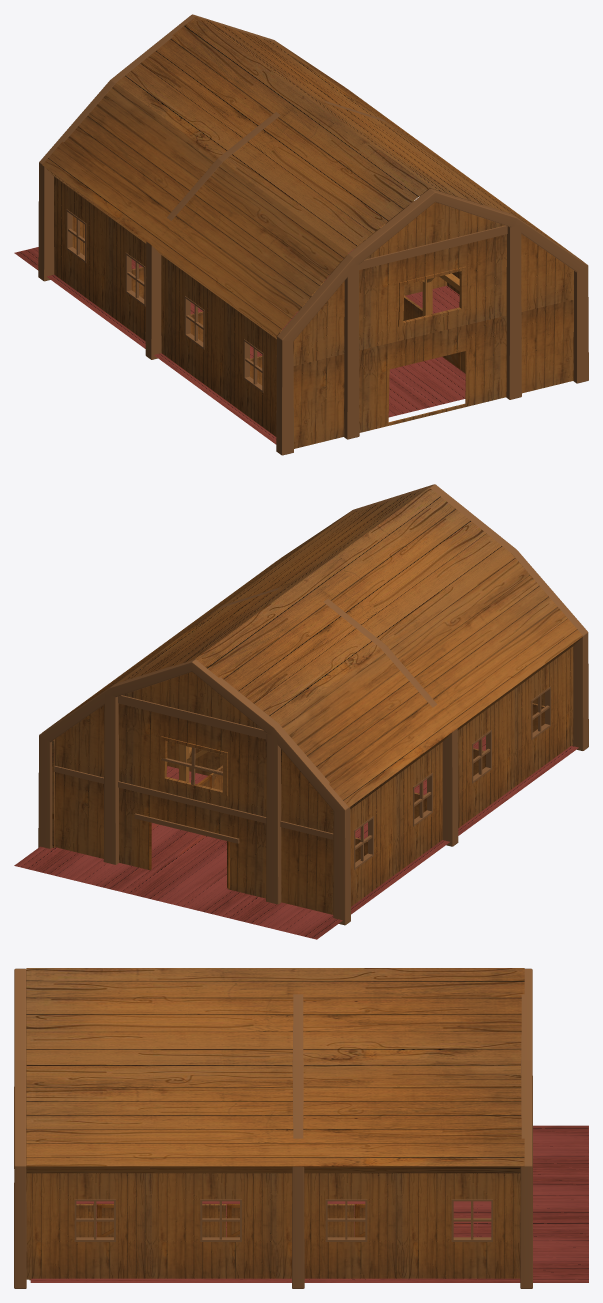
File: Chicken House Wood.fbx
The picture shows the model from 3 angles, top to bottom: view 1: azimuth 30°, elevation 25°; view 2: azimuth 150°, elevation 25°; view 3: azimuth 270°, elevation 25°; orthographic projection. The views are drawn at different scales.
Parts seen in each view (by area): view 1: polySurface44, polySurface123, polySurface40, polySurface78, polySurface25, polySurface60, polySurface82, polySurface76, polySurface72, polySurface63; view 2: polySurface44, polySurface51, polySurface78, polySurface40, polySurface72, polySurface82, polySurface25, polySurface60, polySurface76, polySurface123, polySurface63, polySurface61 (+5 smaller); view 3: polySurface40, polySurface78, polySurface50, polySurface102, polySurface46, polySurface95, polySurface123, polySurface72, polySurface63, polySurface59, polySurface107, polySurface34 (+5 smaller).
Boxes of the visible parts, box(x1,y1,x2,y2) form: polySurface44: box(42, 16, 429, 339); polySurface123: box(276, 188, 588, 455); polySurface40: box(196, 17, 581, 260); polySurface78: box(14, 247, 465, 444); polySurface25: box(168, 260, 227, 401); polySurface60: box(54, 176, 109, 314); polySurface82: box(227, 304, 281, 436); polySurface76: box(109, 217, 168, 357); polySurface72: box(38, 14, 343, 281); polySurface63: box(145, 100, 435, 359); polySurface44: box(195, 487, 582, 808); polySurface51: box(54, 672, 333, 914); polySurface78: box(14, 736, 578, 939); polySurface40: box(42, 488, 427, 732); polySurface72: box(38, 659, 350, 925); polySurface82: box(515, 646, 573, 786); polySurface25: box(457, 689, 514, 827); polySurface60: box(333, 776, 396, 906); polySurface76: box(396, 742, 442, 872); polySurface123: box(281, 484, 588, 750); polySurface63: box(168, 587, 458, 846); polySurface61: box(266, 733, 281, 904); polySurface40: box(26, 968, 524, 1173); polySurface78: box(30, 1125, 588, 1282); polySurface50: box(26, 1173, 151, 1279); polySurface102: box(150, 1173, 277, 1278); polySurface46: box(402, 1173, 520, 1278); polySurface95: box(276, 1173, 402, 1278); polySurface123: box(14, 968, 26, 1288); polySurface72: box(520, 968, 532, 1288); polySurface63: box(292, 994, 304, 1288); polySurface59: box(327, 1204, 354, 1237); polySurface107: box(202, 1204, 226, 1237); polySurface34: box(76, 1204, 96, 1237).
Size of the model in its own units: 19.5 by 13.72 by 29.67.
